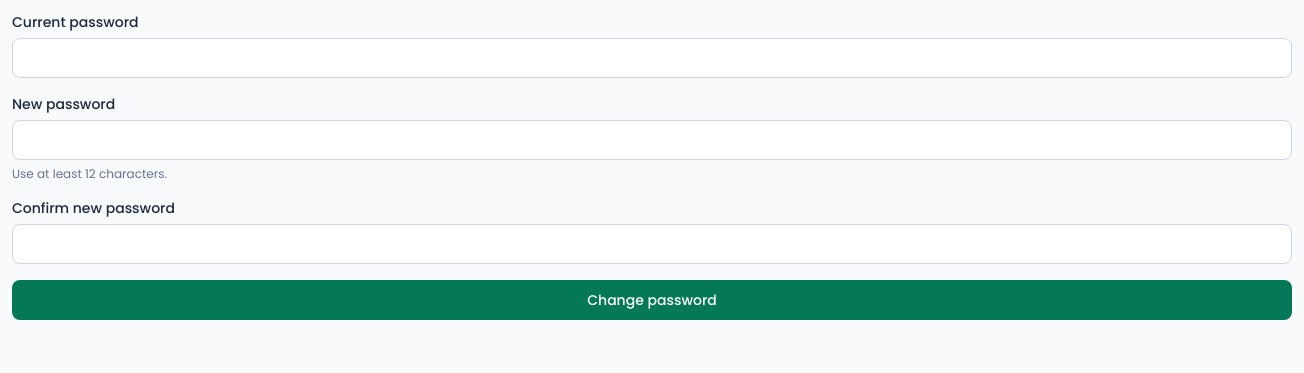
Test: ChangePasswordForm › surfaces an action error without replacing the form
The width and height of the screenshot is (1304, 373).
Type "wrong-password" into the password field labelled "Current password" at coordinates (652, 58), box [12,38,1292,78]
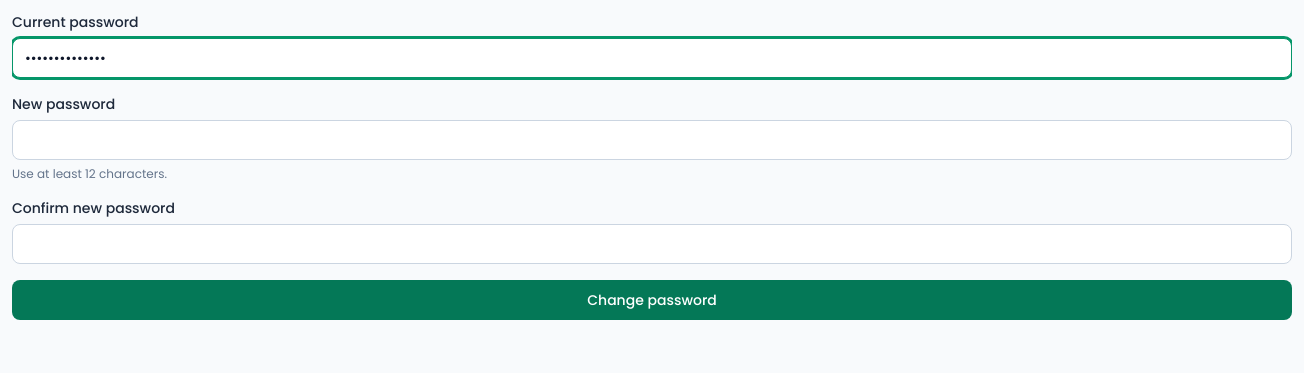
Type "a-brand-new-password" into the password field labelled "New password" at coordinates (652, 140), box [12,120,1292,160]
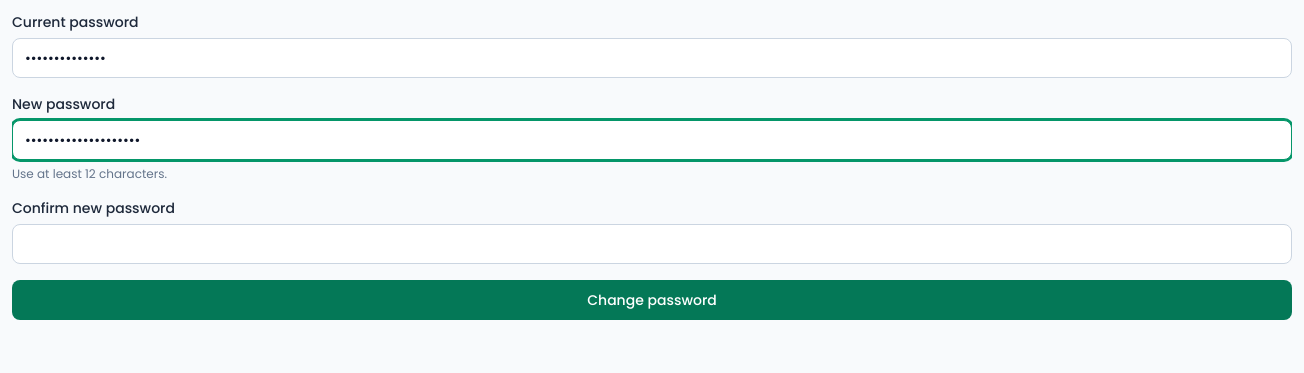
Type "a-brand-new-password" into the password field labelled "Confirm new password" at coordinates (652, 244), box [12,224,1292,264]
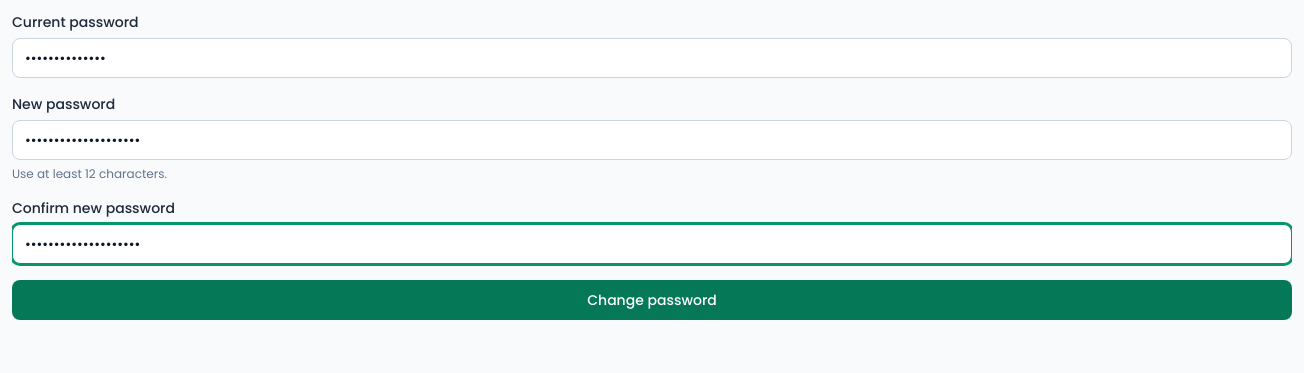
Click the button "Change password" at coordinates (652, 300), box [12,280,1292,320]
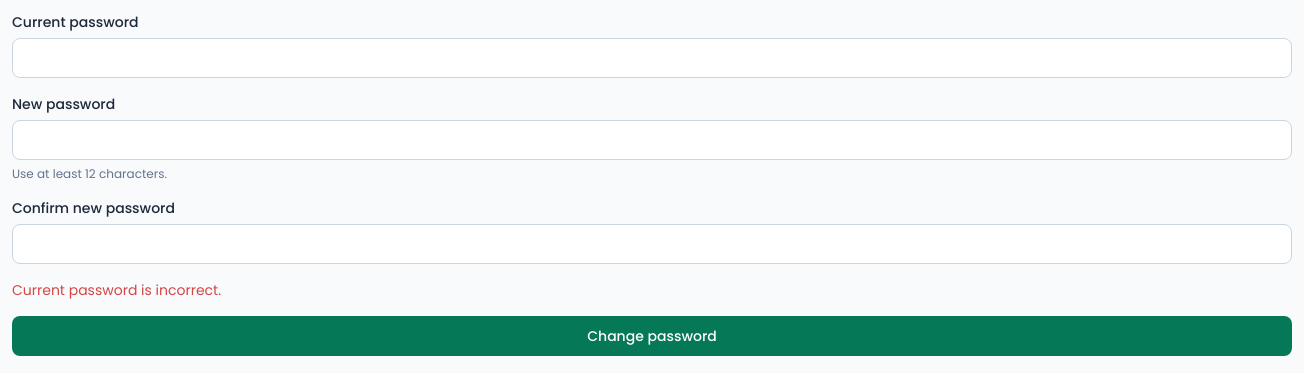
Expected: the password field labelled "Current password" is shown, [12,38,1292,78]
Expected: the message reads "Current password is incorrect.", [12,280,221,300]
